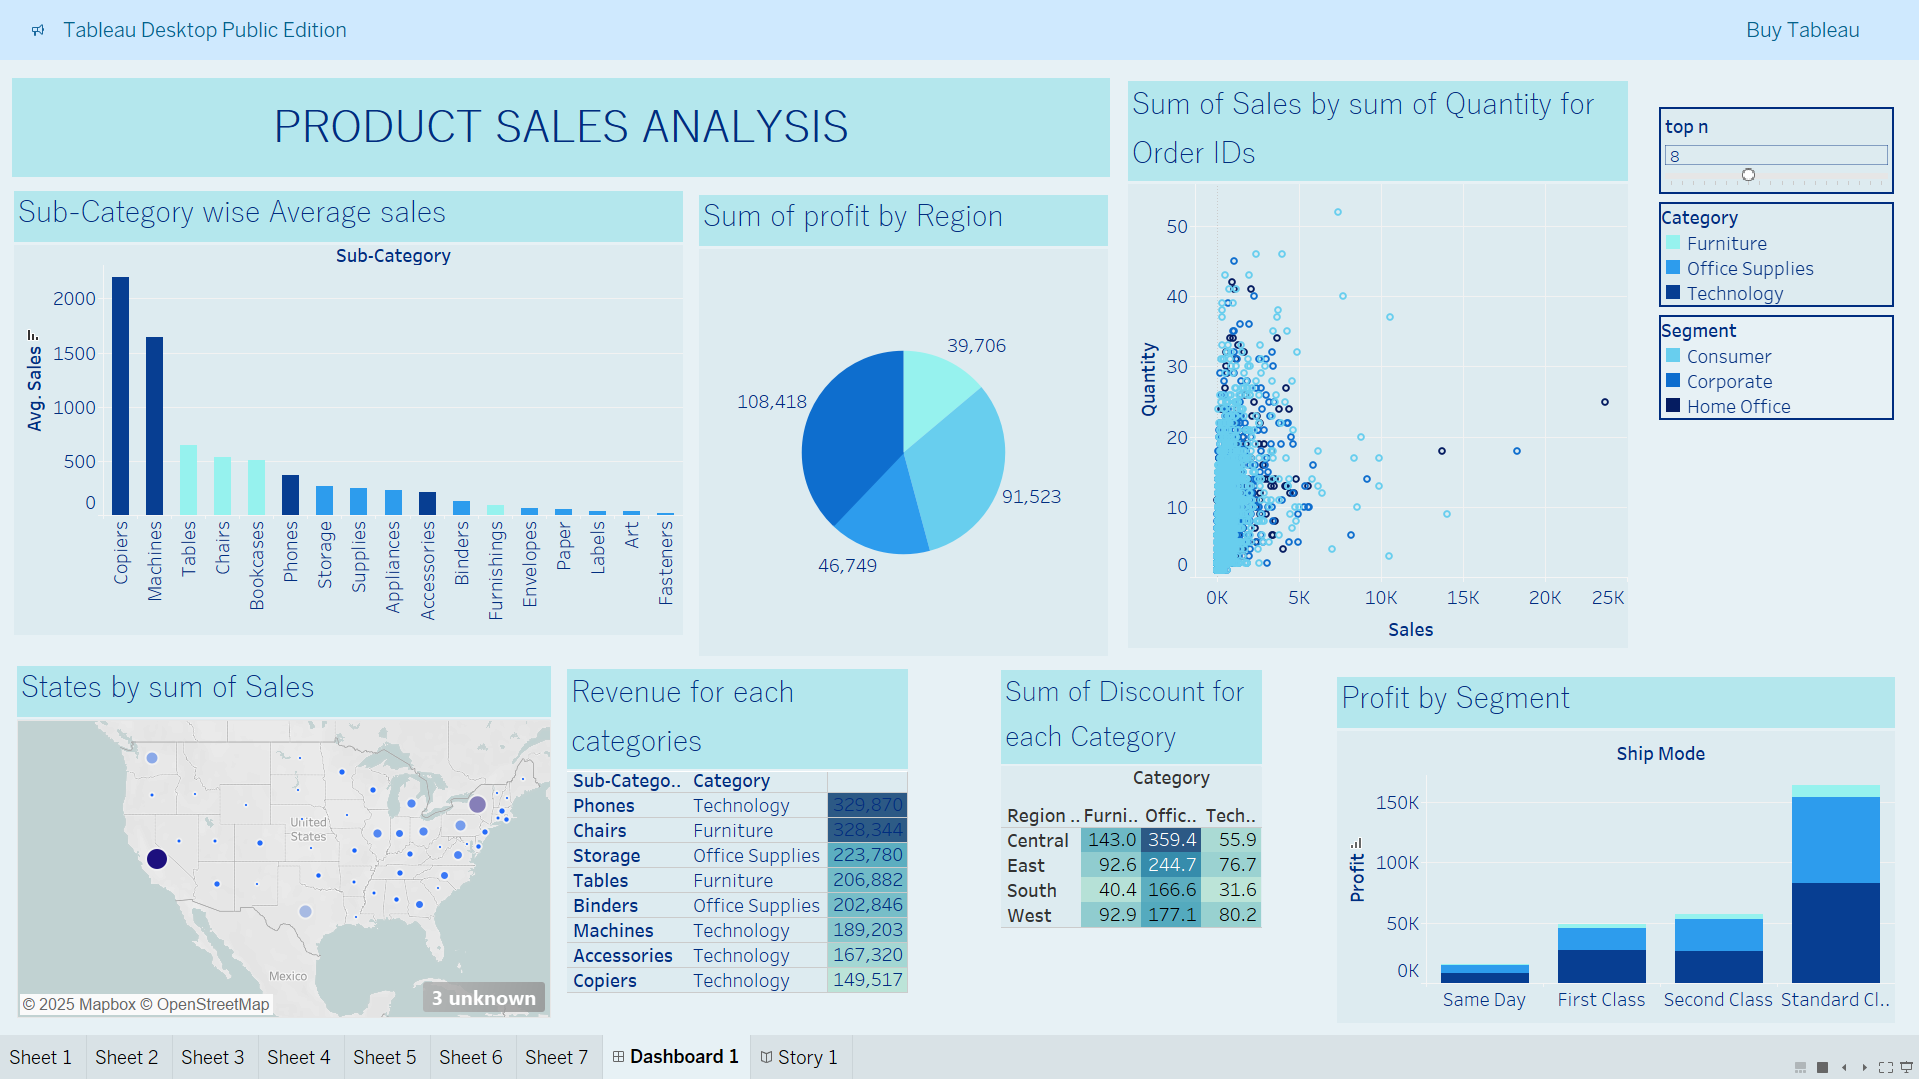

The dashboard page shown, as its layout file describes it:
{"tool":"tableau","page":{"name":"Dashboard 1","canvas":[1000,1000],"units":"permille","ordinal":0},"visuals":[{"type":"text","box":[15.6,37.5,571.7,101.9]},{"type":"worksheet","title":"Sheet 4","mark":"Shape","rows":["Quantity"],"cols":["Sales"],"box":[594.8,41.6,260.6,581.8]},{"type":"parameter","param":"[Parameters].[Quantity Parameter]","box":[862.2,44.2,126.6,124.7]},{"type":"worksheet","title":"Sheet 2","mark":"Pie","box":[374.7,151.5,213.2,473.2]},{"type":"worksheet","title":"Sheet 1","mark":"Automatic","rows":["Sales"],"cols":["Sub-Category"],"box":[19.3,152.8,348.5,470.5]},{"type":"legend","title":"Sheet 2","param":"[federated.06yz1e11brqzbm14phhrq18yjaik].[none:Region:nk]","box":[862.2,168.9,126.6,185]},{"type":"legend","title":"Sheet 1","param":"[federated.06yz1e11brqzbm14phhrq18yjaik].[none:Category:nk]","box":[862.2,353.9,126.6,151.5]},{"type":"legend","title":"Sheet 4","param":"[federated.06yz1e11brqzbm14phhrq18yjaik].[none:Segment:nk]","box":[862.2,505.4,126.6,151.5]},{"type":"worksheet","title":"Sheet 3","mark":"Automatic","box":[19.9,636.7,321.7,360.6]},{"type":"worksheet","title":"Sheet 6","mark":"Square","rows":["Sub-Category","Category"],"box":[647.1,636.7,246.3,357.9]},{"type":"worksheet","title":"Sheet 5","mark":"Automatic","rows":["Profit"],"cols":["Ship Mode"],"box":[349.1,638.1,290.5,355.2]}]}

Visuals, with their boxes on the dashboard's canvas, which has no fixed pixel size, in thousandths of its width and height (x1, y1, x2, y2). These are canvas units, not pixel positions in the 1919x1079 screenshot, which may show the page scaled, cropped or inside an application window:
text: pyautogui.locateOnScreen(16, 38, 587, 139)
"Sheet 4" worksheet (Shape marks): pyautogui.locateOnScreen(595, 42, 855, 623)
parameter: pyautogui.locateOnScreen(862, 44, 989, 169)
"Sheet 2" worksheet (Pie marks): pyautogui.locateOnScreen(375, 152, 588, 625)
"Sheet 1" worksheet: pyautogui.locateOnScreen(19, 153, 368, 623)
"Sheet 2" legend: pyautogui.locateOnScreen(862, 169, 989, 354)
"Sheet 1" legend: pyautogui.locateOnScreen(862, 354, 989, 505)
"Sheet 4" legend: pyautogui.locateOnScreen(862, 505, 989, 657)
"Sheet 3" worksheet: pyautogui.locateOnScreen(20, 637, 342, 997)
"Sheet 6" worksheet (Square marks): pyautogui.locateOnScreen(647, 637, 893, 995)
"Sheet 5" worksheet: pyautogui.locateOnScreen(349, 638, 640, 993)
